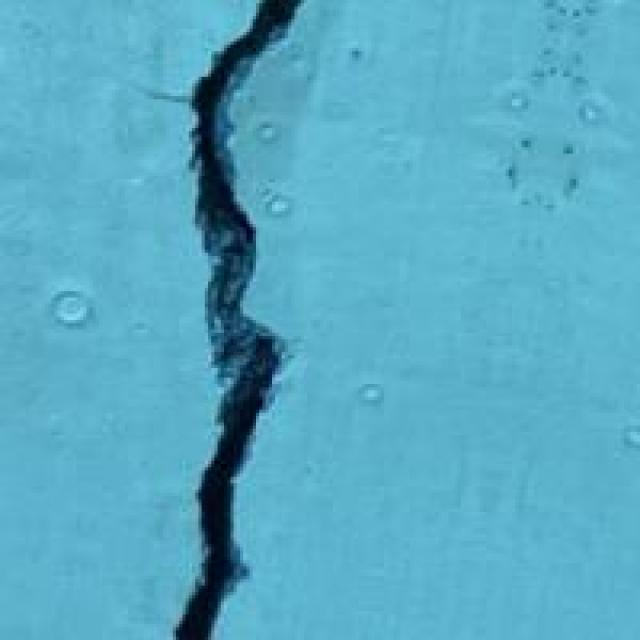Crack: (125, 0, 355, 637)
